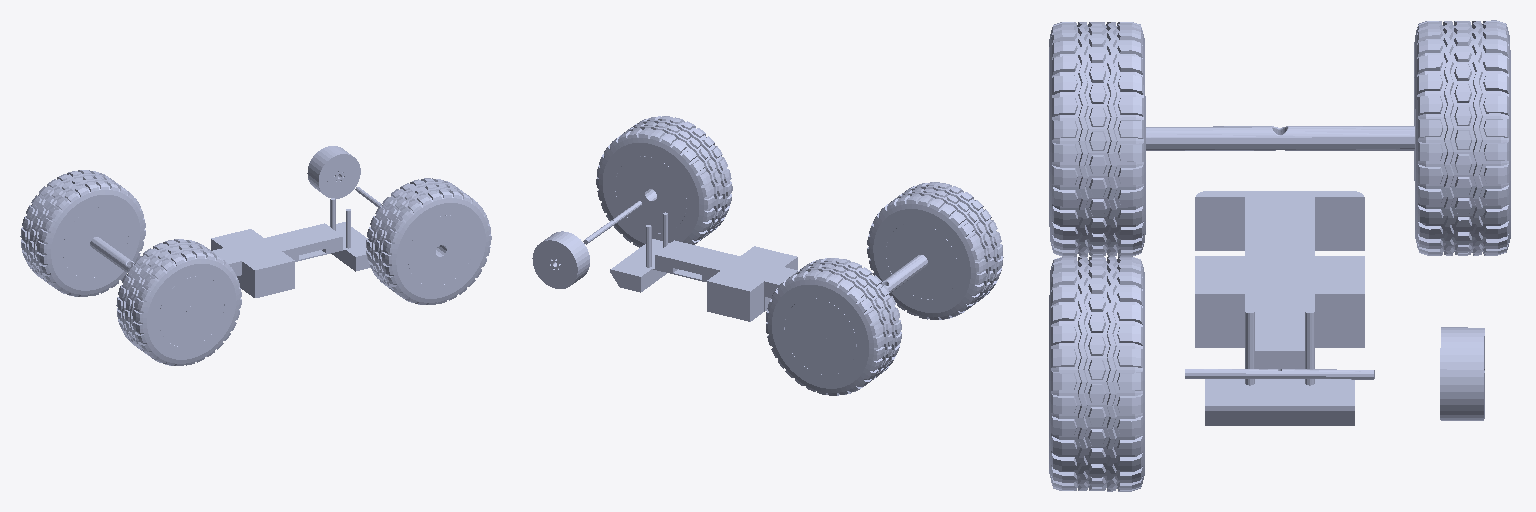
URDF robot description (zongzhuang):
<?xml version="1.0" encoding="utf-8"?>
<!-- This URDF was automatically created by SolidWorks to URDF Exporter! Originally created by Stephen Brawner (brawner@gmail.com) 
     Commit Version: 1.6.0-1-g15f4949  Build Version: 1.6.7594.29634
     For more information, please see http://wiki.ros.org/sw_urdf_exporter -->
<robot
  name="zongzhuang">
  <link
    name="base_link">
    <inertial>
      <origin
        xyz="0.052294 1.5562E-06 0.061913"
        rpy="0 0 0" />
      <mass
        value="34.871" />
      <inertia
        ixx="0.51812"
        ixy="-2.2269E-05"
        ixz="0.18429"
        iyy="2.6761"
        iyz="-2.8808E-06"
        izz="3.0257" />
    </inertial>
    <visual>
      <origin
        xyz="0 0 0"
        rpy="0 0 0" />
      <geometry>
        <mesh
          filename="package://zongzhuang/meshes/base_link.STL" />
      </geometry>
      <material
        name="">
        <color
          rgba="0.79216 0.81961 0.93333 1" />
      </material>
    </visual>
    <collision>
      <origin
        xyz="0 0 0"
        rpy="0 0 0" />
      <geometry>
        <mesh
          filename="package://zongzhuang/meshes/base_link.STL" />
      </geometry>
    </collision>
  </link>
  <link
    name="front_steer_link">
    <inertial>
      <origin
        xyz="3.2861E-09 3.0234E-06 1.801E-09"
        rpy="0 0 0" />
      <mass
        value="0.22307" />
      <inertia
        ixx="0.0040773"
        ixy="-4.8841E-06"
        ixz="-2.5879E-09"
        iyy="1.7496E-05"
        iyz="3.0775E-12"
        izz="0.0040774" />
    </inertial>
    <visual>
      <origin
        xyz="0 0 0"
        rpy="0 0 0" />
      <geometry>
        <mesh
          filename="package://zongzhuang/meshes/front_steer_link.STL" />
      </geometry>
      <material
        name="">
        <color
          rgba="0.79216 0.81961 0.93333 1" />
      </material>
    </visual>
    <collision>
      <origin
        xyz="0 0 0"
        rpy="0 0 0" />
      <geometry>
        <mesh
          filename="package://zongzhuang/meshes/front_steer_link.STL" />
      </geometry>
    </collision>
  </link>
  <joint
    name="front_steer"
    type="revolute">
    <origin
      xyz="0.30136 0 0.023897"
      rpy="0 0 0" />
    <parent
      link="base_link" />
    <child
      link="front_steer_link" />
    <axis
      xyz="0 0 1" />
    <limit
      lower="-0.20943951023931953"
      upper="0.20943951023931953"
      effort="100"
      velocity="5" />
  </joint>
  <link
    name="front_left_wheel_link">
    <inertial>
      <origin
        xyz="-8.32667268468867E-17 8.32667268468867E-16 0"
        rpy="0 0 0" />
      <mass
        value="1.60439880181769" />
      <inertia
        ixx="0.00349127355393319"
        ixy="1.23541645745611E-06"
        ixz="-7.60552588083477E-19"
        iyy="0.00451818608951606"
        iyz="-3.74120056036889E-18"
        izz="0.00349127206768041" />
    </inertial>
    <visual>
      <origin
        xyz="0 0 0"
        rpy="0 0 0" />
      <geometry>
        <mesh
          filename="package://zongzhuang/meshes/front_left_wheel_link.STL" />
      </geometry>
      <material
        name="">
        <color
          rgba="0.792156862745098 0.819607843137255 0.933333333333333 1" />
      </material>
    </visual>
    <collision>
      <origin
        xyz="0 0 0"
        rpy="0 0 0" />
      <geometry>
        <mesh
          filename="package://zongzhuang/meshes/front_left_wheel_link.STL" />
      </geometry>
    </collision>
  </link>
  <joint
    name="front_left_wheel"
    type="continuous">
    <origin
      xyz="0.00022096 0.18367 0"
      rpy="0 0 0" />
    <parent
      link="front_steer_link" />
    <child
      link="front_left_wheel_link" />
    <axis
      xyz="0.001203 1 0" />
    <limit 
      effort="50" velocity="10"/>
  </joint>
  <link
    name="front_right_wheel_link">
    <inertial>
      <origin
        xyz="-5.5511E-17 5.5511E-16 2.2204E-16"
        rpy="0 0 0" />
      <mass
        value="1.6044" />
      <inertia
        ixx="0.01"
        ixy="0.01"
        ixz="-0.01"
        iyy="0.0"
        iyz="0.0"
        izz="0.0" />
    </inertial>
    <visual>
      <origin
        xyz="0 0 0"
        rpy="0 0 0" />
      <geometry>
        <mesh
          filename="package://zongzhuang/meshes/front_right_wheel_link.STL" />
      </geometry>
      <material
        name="">
        <color
          rgba="0.79216 0.81961 0.93333 1" />
      </material>
    </visual>
    <collision>
      <origin
        xyz="0 0 0"
        rpy="0 0 0" />
      <geometry>
        <mesh
          filename="package://zongzhuang/meshes/front_right_wheel_link.STL" />
      </geometry>
    </collision>
  </link>
  <joint
    name="front_right_wheel"
    type="continuous">
    <origin
      xyz="-0.00022095 -0.18366 0"
      rpy="0 0 0" />
    <parent
      link="front_steer_link" />
    <child
      link="front_right_wheel_link" />
    <axis
      xyz="0.001203 1 0" />
    <limit 
      effort="50" velocity="10"/>

  </joint>
  <link
    name="back_steer_link">
    <inertial>
      <origin
        xyz="-2.23462596760093E-08 3.0233396262104E-06 1.80102555091821E-09"
        rpy="0 0 0" />
      <mass
        value="0.223070053106009" />
      <inertia
        ixx="0.00407704723590971"
        ixy="2.95336572258115E-05"
        ixz="-2.58784276789596E-09"
        iyy="1.77046041943845E-05"
        iyz="-1.88626606449667E-11"
        izz="0.00407741406853652" />
    </inertial>
    <visual>
      <origin
        xyz="0 0 0"
        rpy="0 0 0" />
      <geometry>
        <mesh
          filename="package://zongzhuang/meshes/back_steer_link.STL" />
      </geometry>
      <material
        name="">
        <color
          rgba="0.792156862745098 0.819607843137255 0.933333333333333 1" />
      </material>
    </visual>
    <collision>
      <origin
        xyz="0 0 0"
        rpy="0 0 0" />
      <geometry>
        <mesh
          filename="package://zongzhuang/meshes/back_steer_link.STL" />
      </geometry>
    </collision>
  </link>
  <joint
    name="back_steer"
    type="revolute">
    <origin
      xyz="-0.25864 0 0.023897"
      rpy="0 0 0" />
    <parent
      link="base_link" />
    <child
      link="back_steer_link" />
    <axis
      xyz="0 0 1" />
    <limit
      lower="-0.20943951023931953"
      upper="0.20943951023931953"
      effort="100"
      velocity="5" />
  </joint>
  <link
    name="back_left_wheel_link">
    <inertial>
      <origin
        xyz="-5.5511E-17 -1.8319E-15 4.4409E-16"
        rpy="0 0 0" />
      <mass
        value="1.6044" />
      <inertia
        ixx="0.0034913"
        ixy="-7.4705E-06"
        ixz="-1.0425E-18"
        iyy="0.0045181"
        iyz="-3.6283E-18"
        izz="0.0034913" />
    </inertial>
    <visual>
      <origin
        xyz="0 0 0"
        rpy="0 0 0" />
      <geometry>
        <mesh
          filename="package://zongzhuang/meshes/back_left_wheel_link.STL" />
      </geometry>
      <material
        name="">
        <color
          rgba="0.79216 0.81961 0.93333 1" />
      </material>
    </visual>
    <collision>
      <origin
        xyz="0 0 0"
        rpy="0 0 0" />
      <geometry>
        <mesh
          filename="package://zongzhuang/meshes/back_left_wheel_link.STL" />
      </geometry>
    </collision>
  </link>
  <joint
    name="back_left_wheel"
    type="continuous">
    <origin
      xyz="-0.0013362 0.18367 0"
      rpy="0 0 0" />
    <parent
      link="back_steer_link" />
    <child
      link="back_left_wheel_link" />
    <axis
      xyz="-0.0072749 0.99997 0" />
    <limit 
      effort="50" velocity="10"/>

  </joint>
  <link
    name="back_right_wheel_link">
    <inertial>
      <origin
        xyz="-5.5511E-17 -1.7764E-15 4.4409E-16"
        rpy="0 0 0" />
      <mass
        value="1.6044" />
      <inertia
        ixx="0.0034913"
        ixy="-7.4705E-06"
        ixz="-1.0579E-18"
        iyy="0.0045181"
        iyz="-3.6553E-18"
        izz="0.0034913" />
    </inertial>
    <visual>
      <origin
        xyz="0 0 0"
        rpy="0 0 0" />
      <geometry>
        <mesh
          filename="package://zongzhuang/meshes/back_right_wheel_link.STL" />
      </geometry>
      <material
        name="">
        <color
          rgba="0.79216 0.81961 0.93333 1" />
      </material>
    </visual>
    <collision>
      <origin
        xyz="0 0 0"
        rpy="0 0 0" />
      <geometry>
        <mesh
          filename="package://zongzhuang/meshes/back_right_wheel_link.STL" />
      </geometry>
    </collision>
  </link>
  <joint
    name="back_right_wheel"
    type="continuous">
    <origin
      xyz="0.0013361 -0.18365 0"
      rpy="0 0 0" />
    <parent
      link="back_steer_link" />
    <child
      link="back_right_wheel_link" />
    <axis
      xyz="-0.0072749 0.99997 0" />
    <limit 
      effort="50" velocity="10"/>

  </joint>
  <link
    name="cockpit_link">
    <inertial>
      <origin
        xyz="-5.5511E-17 5.3776E-17 0.005"
        rpy="0 0 0" />
      <mass
        value="0.77713" />
      <inertia
        ixx="0.013744"
        ixy="6.1365E-08"
        ixz="-1.536E-20"
        iyy="0.0018586"
        iyz="-3.8222E-20"
        izz="0.01559" />
    </inertial>
    <visual>
      <origin
        xyz="0 0 0"
        rpy="0 0 0" />
      <geometry>
        <mesh
          filename="package://zongzhuang/meshes/cockpit_link.STL" />
      </geometry>
      <material
        name="">
        <color
          rgba="0.79216 0.81961 0.93333 1" />
      </material>
    </visual>
    <collision>
      <origin
        xyz="0 0 0"
        rpy="0 0 0" />
      <geometry>
        <mesh
          filename="package://zongzhuang/meshes/cockpit_link.STL" />
      </geometry>
    </collision>
  </link>
  <joint
    name="cockpit"
    type="prismatic">
    <origin
      xyz="0.53329 0.0015656 0.029177"
      rpy="0 0 0" />
    <parent
      link="base_link" />
    <child
      link="cockpit_link" />
    <axis
      xyz="0 0 1" />
    <limit
      lower="0"
      upper="1"
      effort="0"
      velocity="0" />
  </joint>

   <transmission name="front_steer_trans">
    <type>transmission_interface/SimpleTransmission</type>
    <joint name="front_steer">
      <hardwareInterface>EffortJointInterface</hardwareInterface>
    </joint>
    <actuator name="front_steer_motor">
      <hardwareInterface>EffortJointInterface</hardwareInterface>
      <mechanicalReduction>1</mechanicalReduction>
    </actuator>
  </transmission>

  <transmission name="back_steer_trans">
    <type>transmission_interface/SimpleTransmission</type>
    <joint name="back_steer">
      <hardwareInterface>EffortJointInterface</hardwareInterface>
    </joint>
    <actuator name="back_steer_motor">
      <hardwareInterface>EffortJointInterface</hardwareInterface>
      <mechanicalReduction>1</mechanicalReduction>
    </actuator>
  </transmission>

  <transmission name="front_left_wheel_trans">
    <type>transmission_interface/SimpleTransmission</type>
    <joint name="front_left_wheel">
      <hardwareInterface>EffortJointInterface</hardwareInterface>
    </joint>
    <actuator name="front_left_wheel_motor">
      <hardwareInterface>EffortJointInterface</hardwareInterface>
      <mechanicalReduction>1</mechanicalReduction>
    </actuator>
  </transmission>

  <transmission name="front_right_wheel_trans">
    <type>transmission_interface/SimpleTransmission</type>
    <joint name="front_right_wheel">
      <hardwareInterface>EffortJointInterface</hardwareInterface>
    </joint>
    <actuator name="front_right_wheel_motor">
      <hardwareInterface>EffortJointInterface</hardwareInterface>
      <mechanicalReduction>1</mechanicalReduction>
    </actuator>
  </transmission>

  <transmission name="back_left_wheel_trans">
    <type>transmission_interface/SimpleTransmission</type>
    <joint name="back_left_wheel">
      <hardwareInterface>EffortJointInterface</hardwareInterface>
    </joint>
    <actuator name="back_left_wheel_motor">
      <hardwareInterface>EffortJointInterface</hardwareInterface>
      <mechanicalReduction>1</mechanicalReduction>
    </actuator>
  </transmission>

  <transmission name="back_right_wheel_trans">
    <type>transmission_interface/SimpleTransmission</type>
    <joint name="back_right_wheel">
      <hardwareInterface>EffortJointInterface</hardwareInterface>
    </joint>
    <actuator name="back_right_wheel_motor">
      <hardwareInterface>EffortJointInterface</hardwareInterface>
      <mechanicalReduction>1</mechanicalReduction>
    </actuator>
  </transmission>

  <gazebo>
    <plugin name="gazebo_ros_control" filename="libgazebo_ros_control.so"/>
  </gazebo>
</robot>

--- What the picture shows (computed from the rendered views, not written in the file) ---
The picture shows the robot from 3 angles, left to right: view 1: azimuth 30°, elevation 25°; view 2: azimuth 150°, elevation 25°; view 3: azimuth 270°, elevation 25°; orthographic projection.
Robot: zongzhuang — 8 links, 7 joints (2 revolute, 4 continuous, 1 prismatic); root link base_link; default pose: every joint at zero.
Visible links, largest first — view 1: front_right_wheel_link, back_right_wheel_link, back_left_wheel_link, base_link, front_left_wheel_link, back_steer_link; view 2: back_left_wheel_link, back_right_wheel_link, front_right_wheel_link, base_link, front_left_wheel_link, back_steer_link; view 3: base_link, back_right_wheel_link, back_left_wheel_link, front_right_wheel_link, back_steer_link, front_left_wheel_link, front_steer_link.
Boxes of the visible links, box(x1,y1,x2,y2) form: front_right_wheel_link: box(366, 178, 491, 304); back_right_wheel_link: box(116, 239, 241, 365); back_left_wheel_link: box(20, 170, 145, 296); base_link: box(211, 198, 370, 297); front_left_wheel_link: box(307, 146, 360, 198); back_steer_link: box(90, 237, 196, 317); back_left_wheel_link: box(766, 258, 901, 395); back_right_wheel_link: box(867, 182, 1003, 319); front_right_wheel_link: box(596, 116, 732, 247); base_link: box(610, 212, 797, 321); front_left_wheel_link: box(532, 231, 589, 288); back_steer_link: box(814, 255, 927, 342); base_link: box(1195, 191, 1364, 425); back_right_wheel_link: box(1049, 22, 1145, 256); back_left_wheel_link: box(1414, 20, 1510, 255); front_right_wheel_link: box(1049, 257, 1144, 491); back_steer_link: box(1049, 126, 1414, 150); front_left_wheel_link: box(1440, 327, 1484, 420); front_steer_link: box(1185, 369, 1374, 379).
Bounding box of the posed robot: 0.7975 × 0.4648 × 0.2363 m (x, y, z).
7 mesh visuals loaded from 8 distinct referenced files (7 binary STL); not drawn: 1 (reference not matched to a file when rendering).
